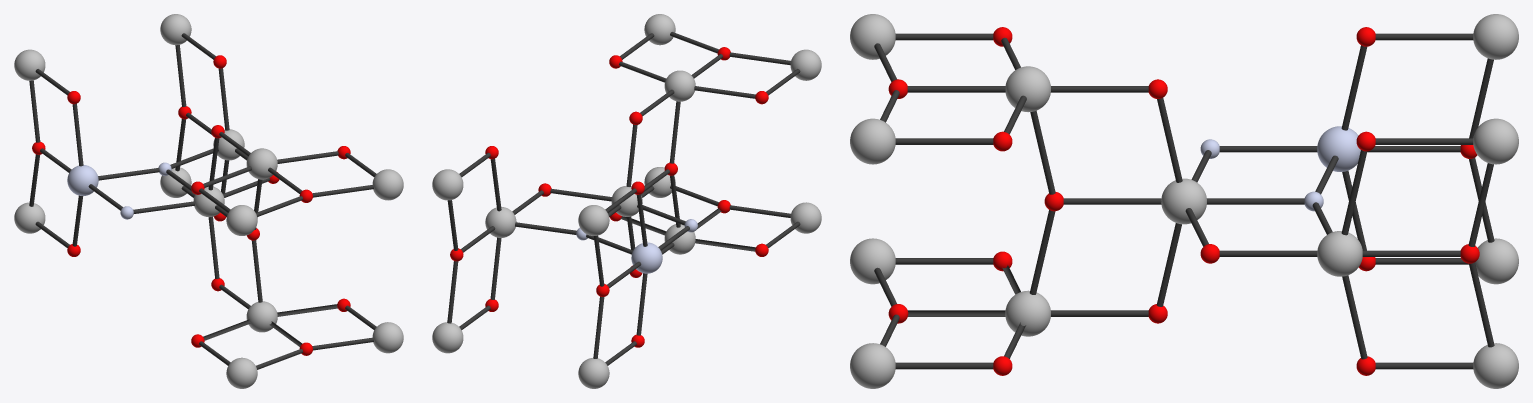
File: anatase-tio2.glb
The picture shows the model from 3 angles, left to right: view 1: azimuth 30°, elevation 25°; view 2: azimuth 150°, elevation 25°; view 3: azimuth 270°, elevation 25°; orthographic projection. The views are drawn at different scales.
Visible parts, largest first — view 1: Surface-Sweep1 - Part, Surface-Sweep3 - Part, Surface-Sweep7 - Part, Surface-Sweep2 - Part, Surface-Sweep5 - Part, Surface-Sweep4 - Part 2, Surface-Sweep9 - Part, Sketch-Pattern1[8] - Part, Sketch-Pattern1[11] - Part, Sketch-Pattern1[9] - Part, Sketch-Pattern1[10] - Part, Sketch-Pattern1[6] - Part (+8 smaller); view 2: Surface-Sweep3 - Part, Surface-Sweep7 - Part, Surface-Sweep5 - Part, Surface-Sweep1 - Part, Surface-Sweep2 - Part, Surface-Sweep4 - Part 2, Sketch-Pattern1[7] - Part, Sketch-Pattern1[5] - Part, Sketch-Pattern1[1] - Part, Sketch-Pattern1[6] - Part, Sketch-Pattern1[10] - Part, Sketch-Pattern1[8] - Part (+8 smaller); view 3: Surface-Sweep1 - Part, Surface-Sweep7 - Part, Surface-Sweep5 - Part, Surface-Sweep2 - Part, Surface-Sweep3 - Part, Surface-Sweep4 - Part 2, Surface-Sweep9 - Part, Sketch-Pattern1[7] - Part, Sketch-Pattern1[11] - Part, Sketch-Pattern1[6] - Part, Sketch-Pattern1[9] - Part, Sketch-Pattern1[5] - Part (+11 smaller).
Boxes of the visible parts, x1=… form: Surface-Sweep1 - Part: x1=29, y1=148, x2=262, y2=302; Surface-Sweep3 - Part: x1=199, y1=151, x2=376, y2=216; Surface-Sweep7 - Part: x1=175, y1=33, x2=229, y2=197; Surface-Sweep2 - Part: x1=72, y1=168, x2=250, y2=309; Surface-Sweep5 - Part: x1=170, y1=132, x2=302, y2=197; Surface-Sweep4 - Part 2: x1=199, y1=305, x2=376, y2=369; Surface-Sweep9 - Part: x1=29, y1=69, x2=83, y2=166; Sketch-Pattern1[8] - Part: x1=226, y1=357, x2=257, y2=388; Sketch-Pattern1[11] - Part: x1=372, y1=169, x2=403, y2=200; Sketch-Pattern1[9] - Part: x1=372, y1=322, x2=403, y2=353; Sketch-Pattern1[10] - Part: x1=226, y1=205, x2=257, y2=235; Sketch-Pattern1[6] - Part: x1=14, y1=49, x2=45, y2=80; Surface-Sweep3 - Part: x1=619, y1=32, x2=800, y2=98; Surface-Sweep7 - Part: x1=447, y1=152, x2=501, y2=329; Surface-Sweep5 - Part: x1=512, y1=54, x2=722, y2=234; Surface-Sweep1 - Part: x1=593, y1=169, x2=689, y2=365; Surface-Sweep2 - Part: x1=586, y1=205, x2=674, y2=335; Surface-Sweep4 - Part 2: x1=641, y1=185, x2=800, y2=247; Sketch-Pattern1[7] - Part: x1=432, y1=169, x2=463, y2=200; Sketch-Pattern1[5] - Part: x1=432, y1=322, x2=463, y2=353; Sketch-Pattern1[1] - Part: x1=578, y1=358, x2=609, y2=388; Sketch-Pattern1[6] - Part: x1=578, y1=205, x2=609, y2=235; Sketch-Pattern1[10] - Part: x1=790, y1=49, x2=821, y2=80; Sketch-Pattern1[8] - Part: x1=790, y1=202, x2=821, y2=233; Surface-Sweep1 - Part: x1=1029, y1=146, x2=1494, y2=294; Surface-Sweep7 - Part: x1=1341, y1=138, x2=1494, y2=369; Surface-Sweep5 - Part: x1=907, y1=86, x2=1332, y2=256; Surface-Sweep2 - Part: x1=1051, y1=155, x2=1366, y2=316; Surface-Sweep3 - Part: x1=874, y1=33, x2=1026, y2=144; Surface-Sweep4 - Part 2: x1=874, y1=258, x2=993, y2=369; Surface-Sweep9 - Part: x1=1341, y1=33, x2=1493, y2=138; Sketch-Pattern1[7] - Part: x1=1473, y1=118, x2=1518, y2=164; Sketch-Pattern1[11] - Part: x1=850, y1=118, x2=895, y2=164; Sketch-Pattern1[6] - Part: x1=1473, y1=14, x2=1518, y2=59; Sketch-Pattern1[9] - Part: x1=850, y1=343, x2=895, y2=388; Sketch-Pattern1[5] - Part: x1=1473, y1=343, x2=1518, y2=388.
Size of the model in its own units: 0.1138 by 0.1138 by 0.2593.
